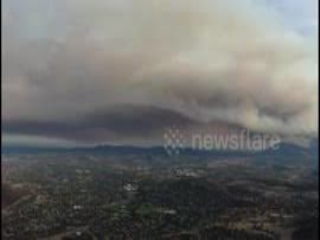smoke: (160, 54, 316, 140)
